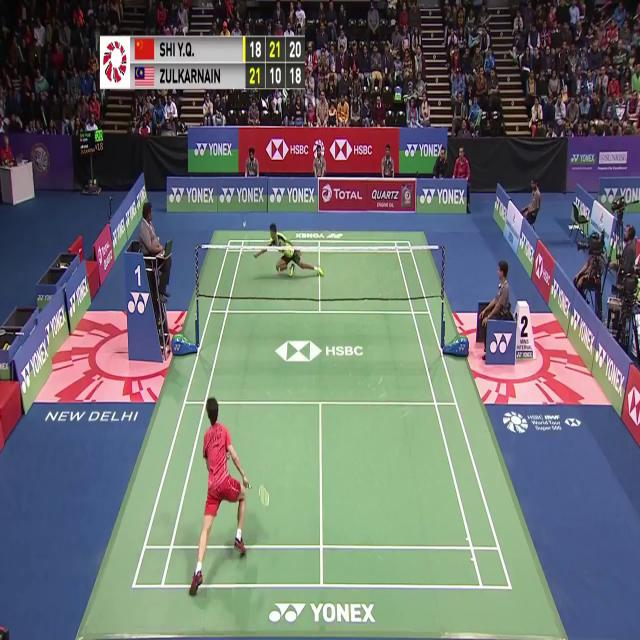Shuttlecock: (241, 217, 247, 229)
